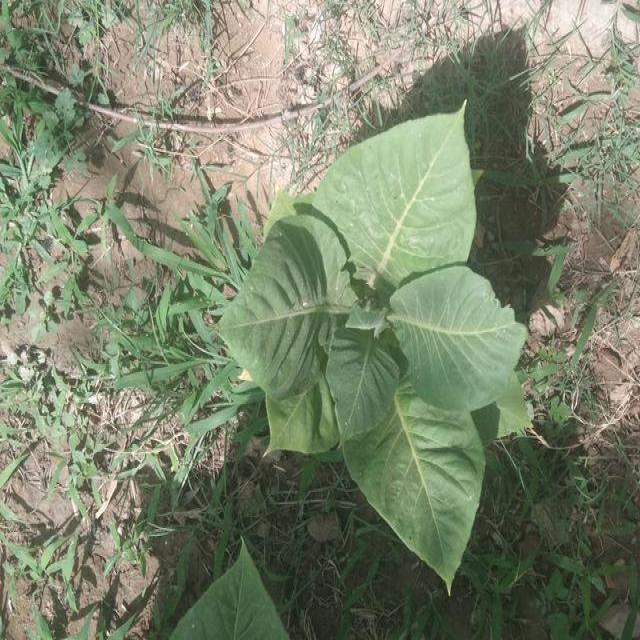crop: (206, 89, 534, 608)
